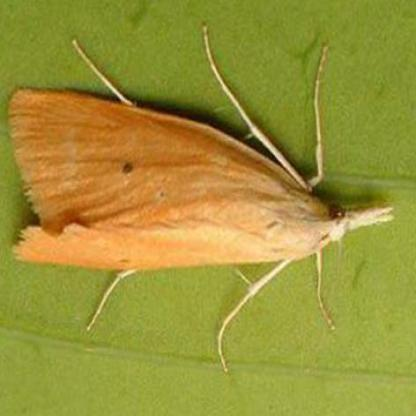stem-borer: (5, 80, 396, 324)
